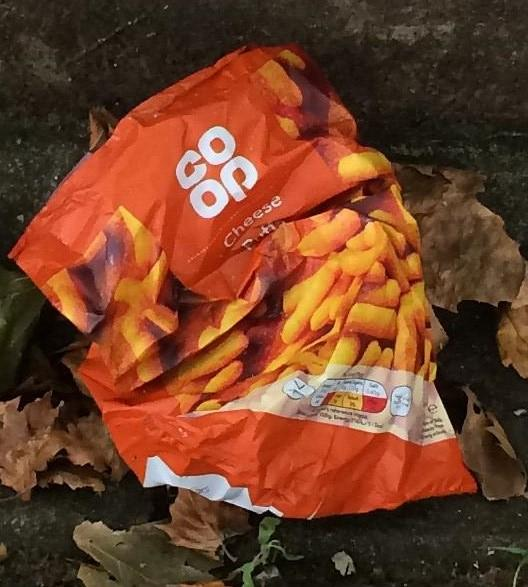plastic: (8, 42, 478, 521)
